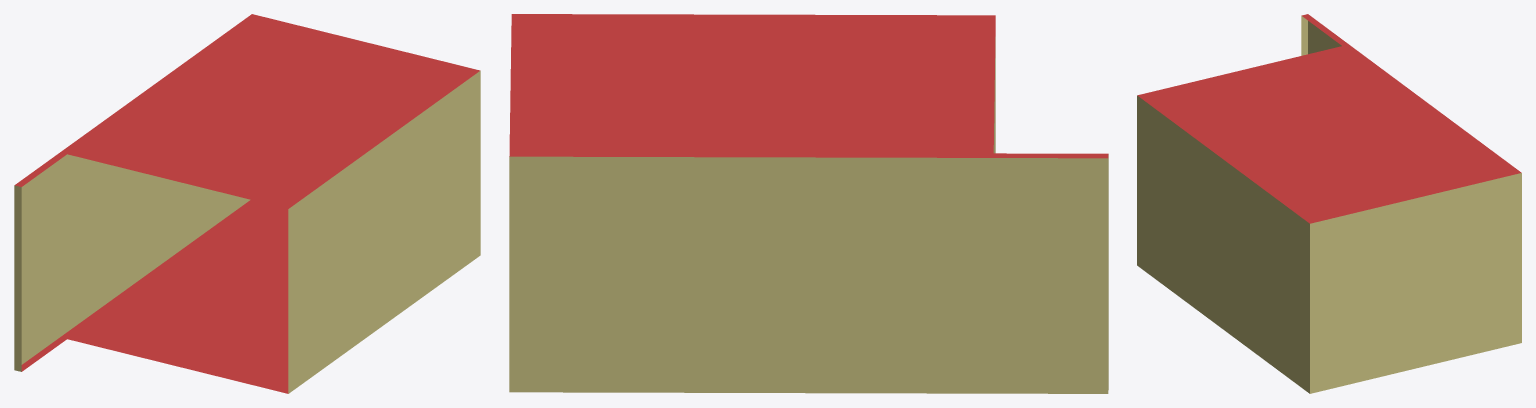
3 views of the same model, side by side, from view 1: azimuth 30°, elevation 25°; view 2: azimuth 150°, elevation 25°; view 3: azimuth 270°, elevation 25° (orthographic). The views are drawn at different scales.
Bounding box in the file's own units: 18.67 × 14.46 × 7.06.
